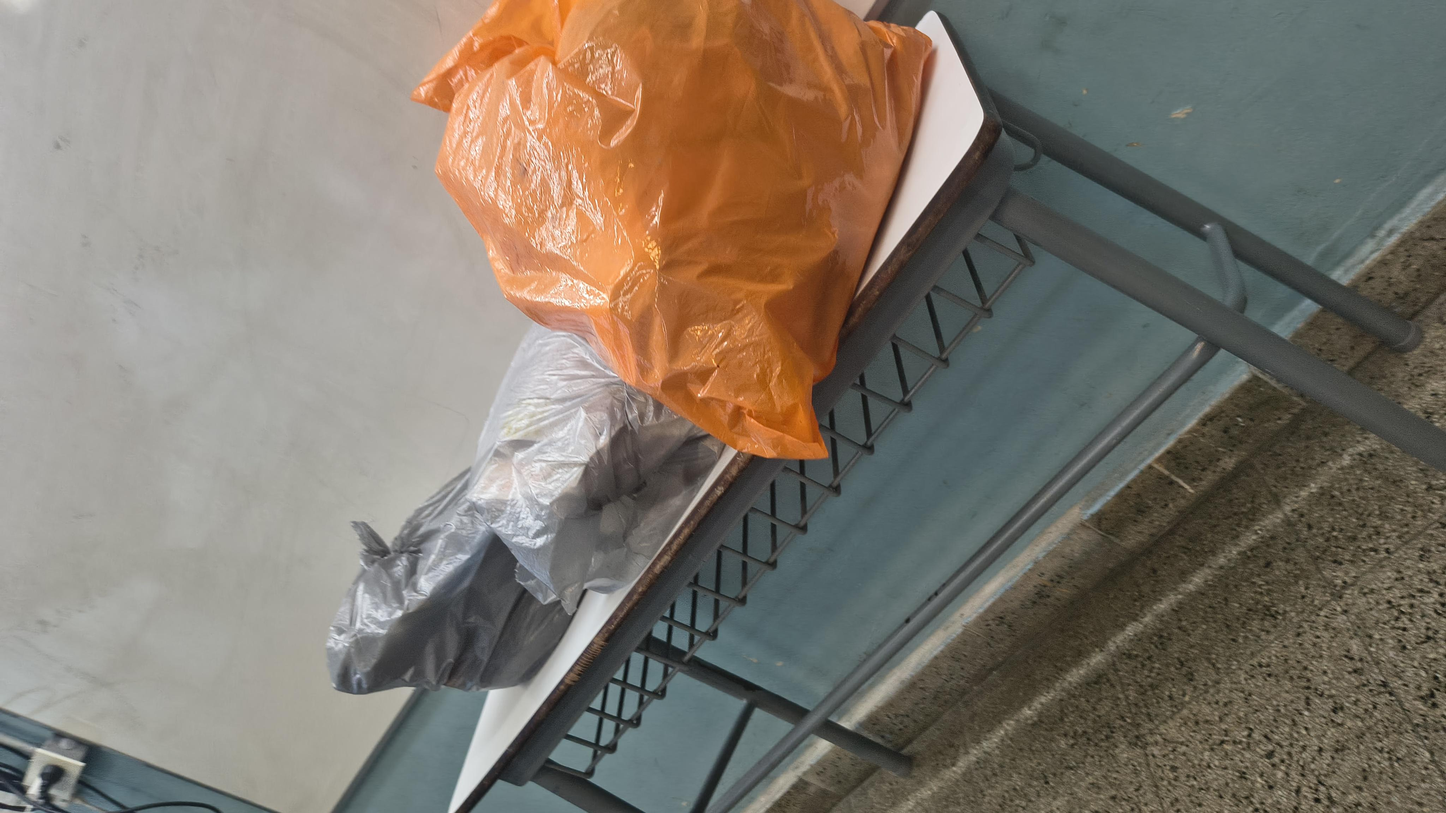Garbage: (615, 220, 1446, 530), (358, 254, 998, 433), (176, 171, 628, 351)
